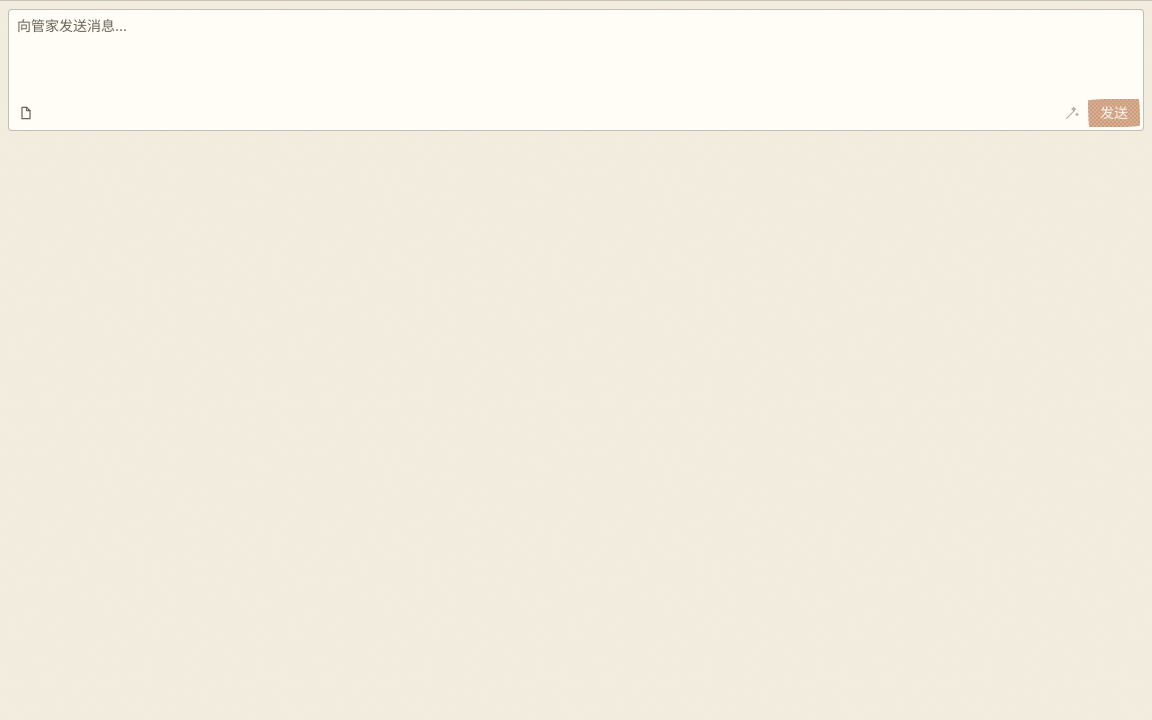
Test: StewardComposer — AI optimize (task 4.7, session-generic IPC) › shows the original-vs-optimized compare and adopts the rewrite
In the text box with placeholder "向管家发送消息...": [576, 70] box [8, 9, 1144, 131], type "帮我诊断"
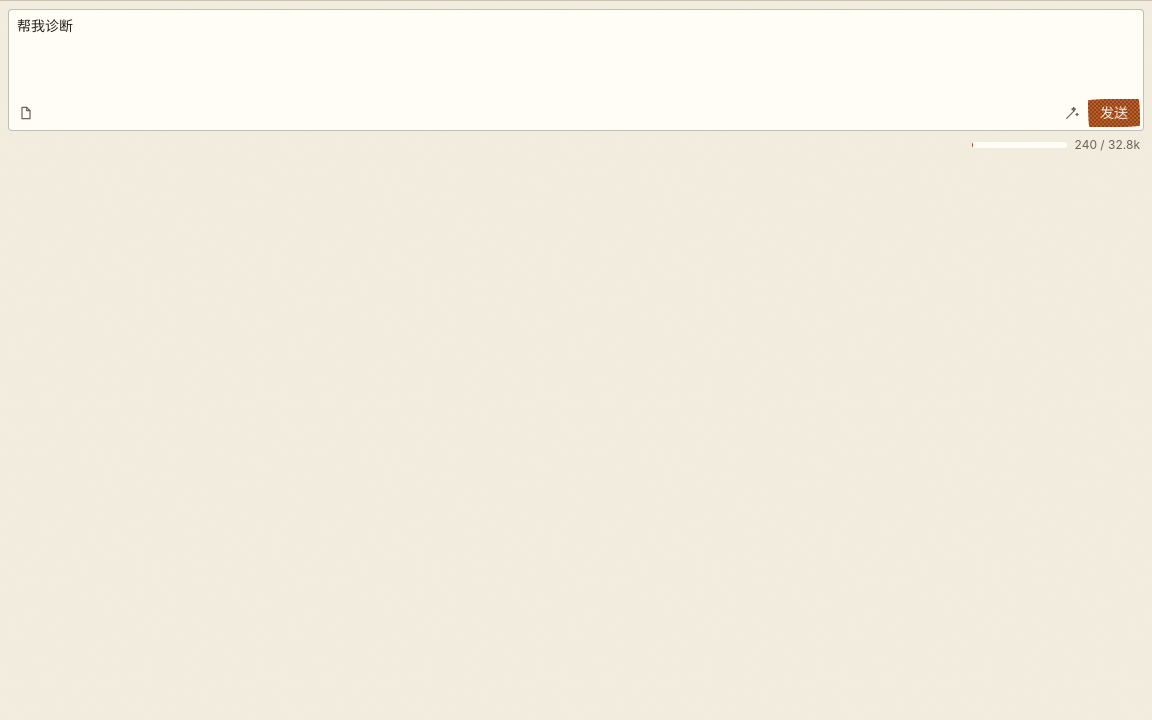
Click the button named "AI 优化提示词": [1072, 113] box [1058, 99, 1086, 127]
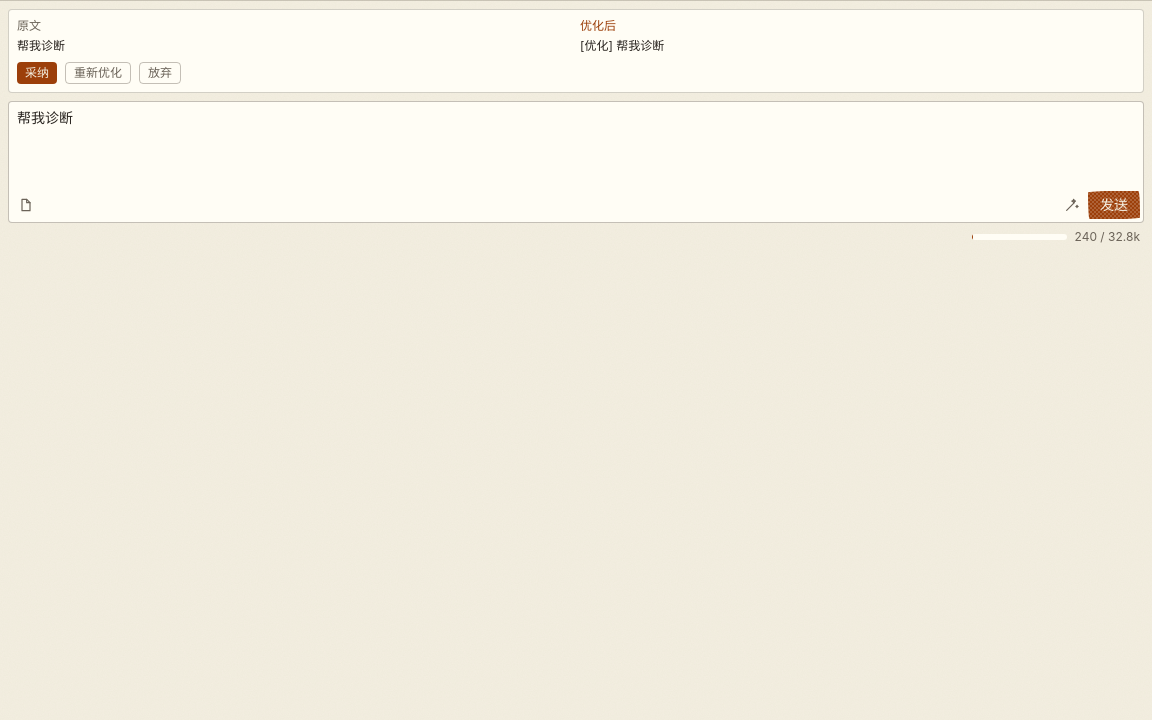
Result: the dialog named "提示词优化对比" shows "原文" at [17, 18, 41, 33]
Result: the dialog named "提示词优化对比" shows "帮我诊断" at [17, 38, 65, 53]
Result: the dialog named "提示词优化对比" shows "[优化] 帮我诊断" at [580, 38, 664, 53]
Click the button "采纳": [37, 73] box [17, 62, 57, 84]
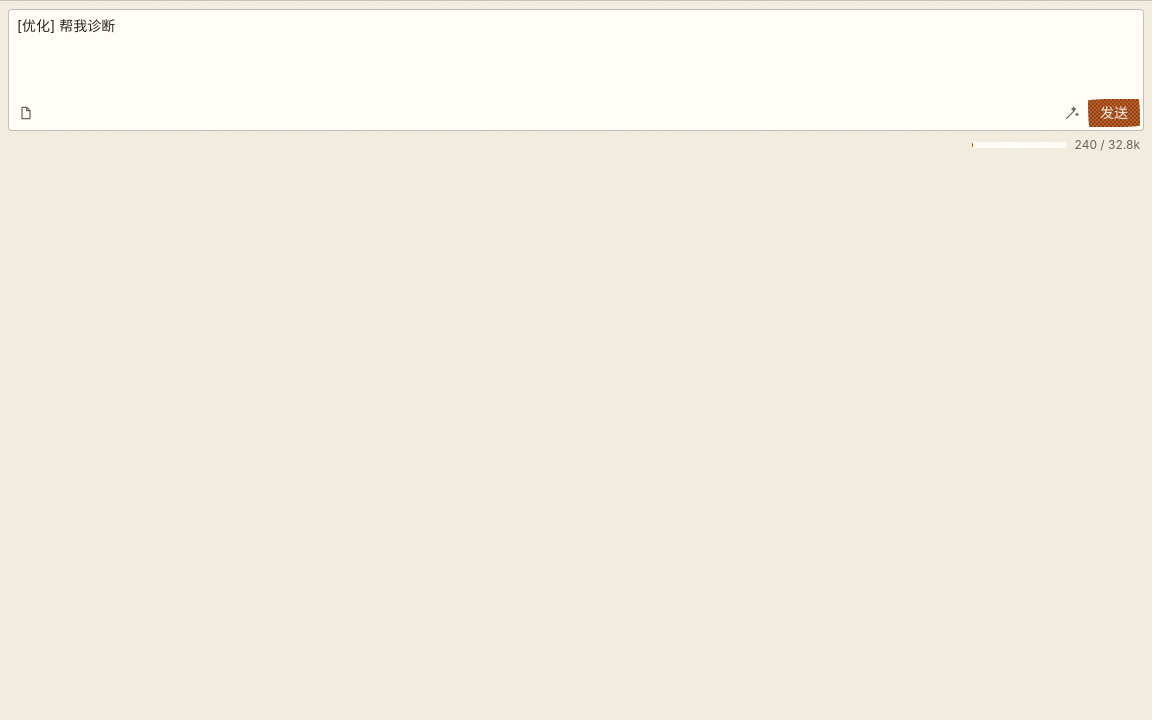
Result: the text box with placeholder "向管家发送消息..." holds "[优化] 帮我诊断" at [8, 9, 1144, 131]
Result: the dialog "提示词优化对比" is gone
